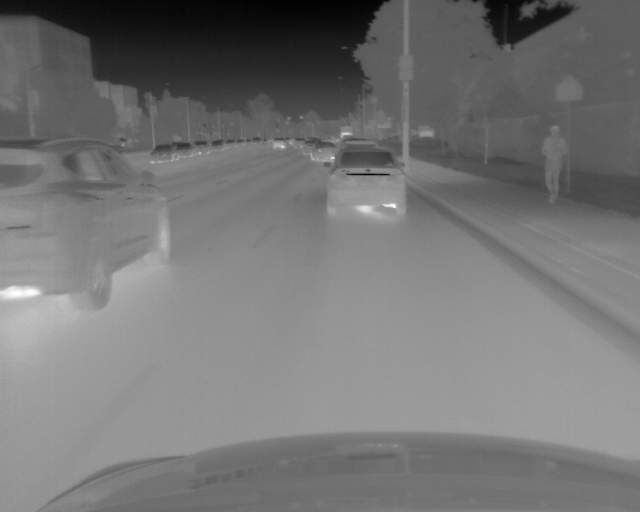car: (1, 135, 172, 310), (326, 149, 409, 215), (333, 138, 379, 153), (149, 144, 177, 163), (311, 142, 335, 162), (175, 142, 199, 158), (301, 139, 317, 153), (196, 140, 210, 153), (271, 138, 285, 150), (211, 139, 223, 150), (223, 139, 235, 149), (293, 137, 303, 149), (235, 138, 245, 148), (253, 137, 260, 147), (245, 139, 252, 147)
people: (541, 125, 568, 203)
